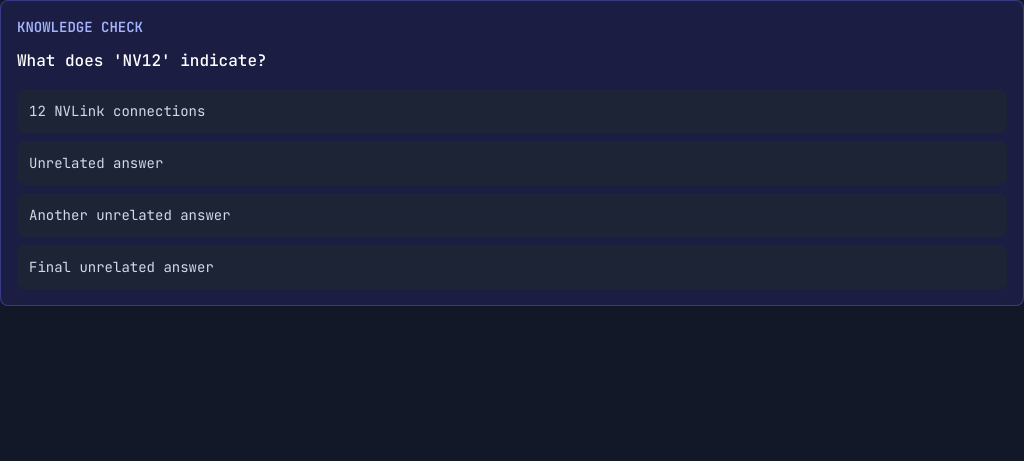
it: InlineQuiz › substitutes hardware placeholders in question, options, and explanation
Check: the text "What does 'NV12' indicate?" is shown, box [17,50,267,71]
Check: the text "12 NVLink connections" is shown, box [29,102,205,120]
// Trigger feedback to render the explanation
Click the button "12 NVLink connections": click(117, 111) [17,89,1007,133]
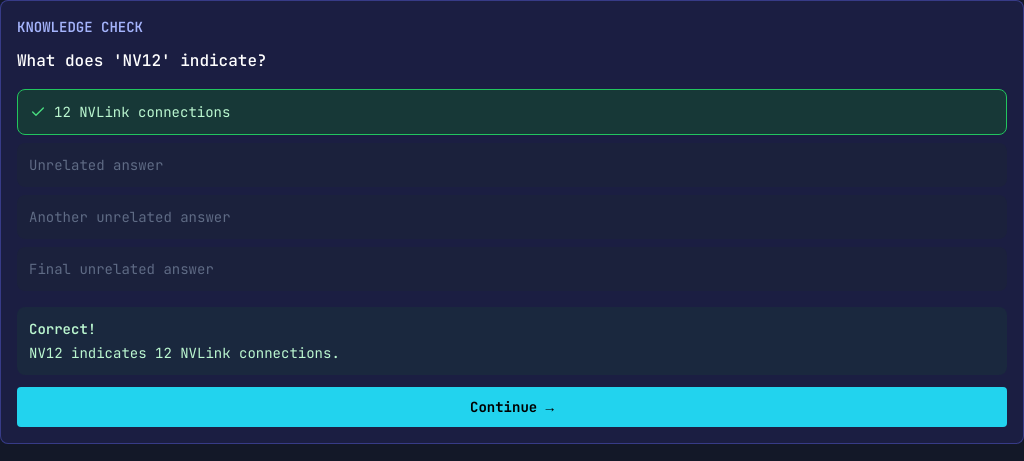
Check: the text "NV12 indicates 12 NVLink connections." is shown, box [29,344,340,362]
